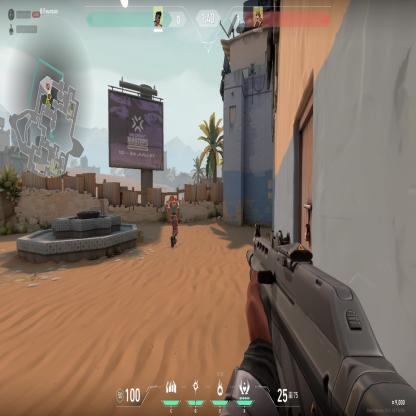enemy: (169, 195, 180, 249)
